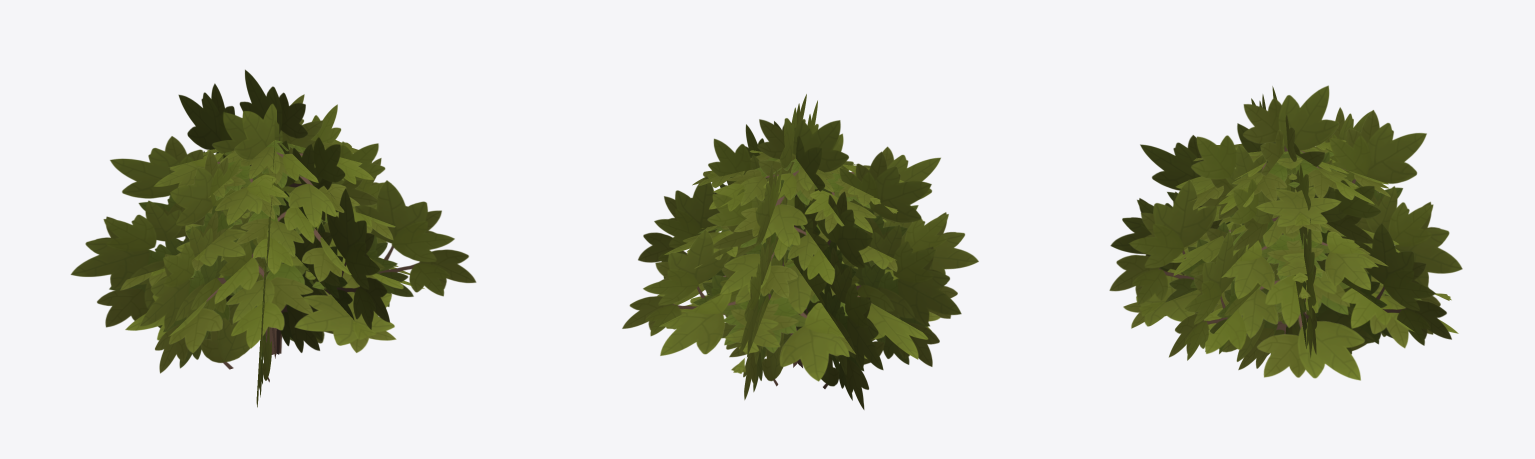
Rendered from bush_1.fbx.
The picture shows the model from 3 angles, left to right: view 1: azimuth 30°, elevation 25°; view 2: azimuth 150°, elevation 25°; view 3: azimuth 270°, elevation 25°; orthographic projection. The views are drawn at different scales.
Visible parts, largest first — view 1: Plane.002; view 2: Plane.002; view 3: Plane.002.
Part boxes in pixels (bbox=[...]): Plane.002: bbox=[70, 69, 476, 407]; Plane.002: bbox=[622, 94, 978, 409]; Plane.002: bbox=[1109, 85, 1462, 380].
Bounding box in the file's own units: 102 × 78.89 × 117.
